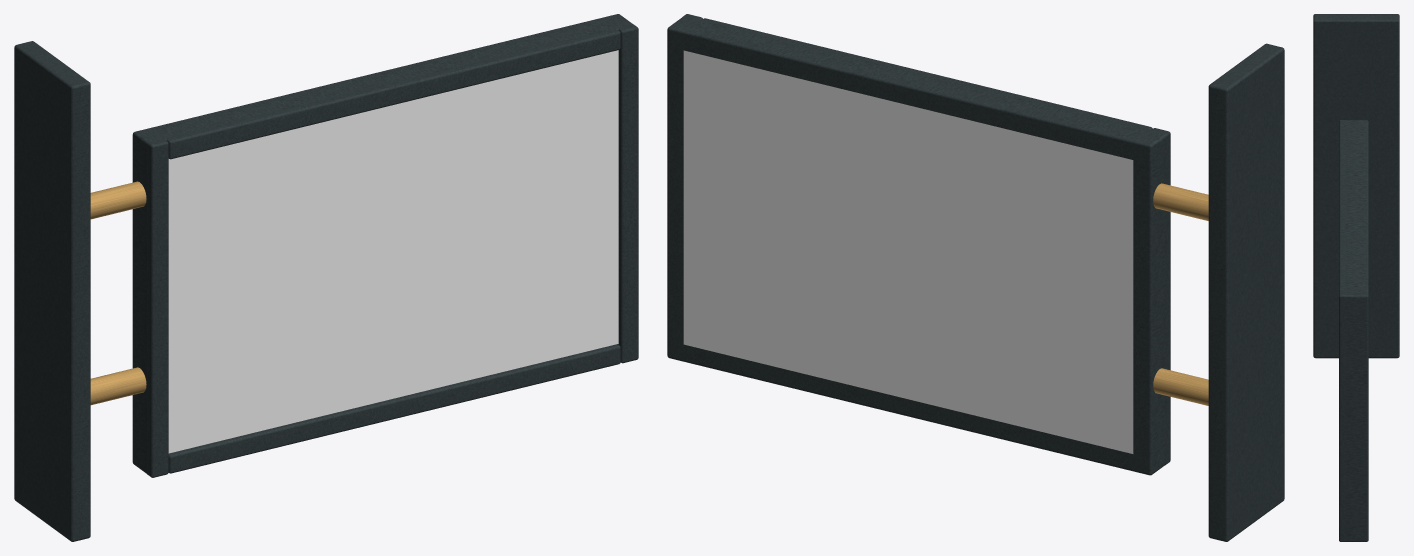
File: preview.glb
3 renders of one model, left to right at view 1: azimuth 30°, elevation 25°; view 2: azimuth 150°, elevation 25°; view 3: azimuth 270°, elevation 25°, orthographic. The views are drawn at different scales.
Parts seen in each view (by area): view 1: Blade; view 2: Blade; view 3: Blade.
Boxes of the visible parts, bbox=[...] form: Blade: bbox=[14, 14, 638, 541]; Blade: bbox=[667, 14, 1284, 541]; Blade: bbox=[1313, 14, 1399, 541].
Size of the model in its own units: 0.7248 by 0.54 by 0.125.
Materials: 3 (2 with a texture image).
